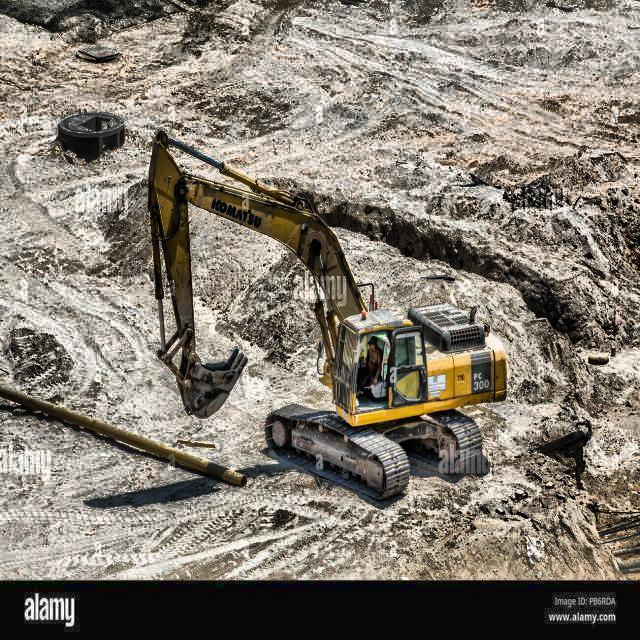excavator: (144, 131, 511, 504)
